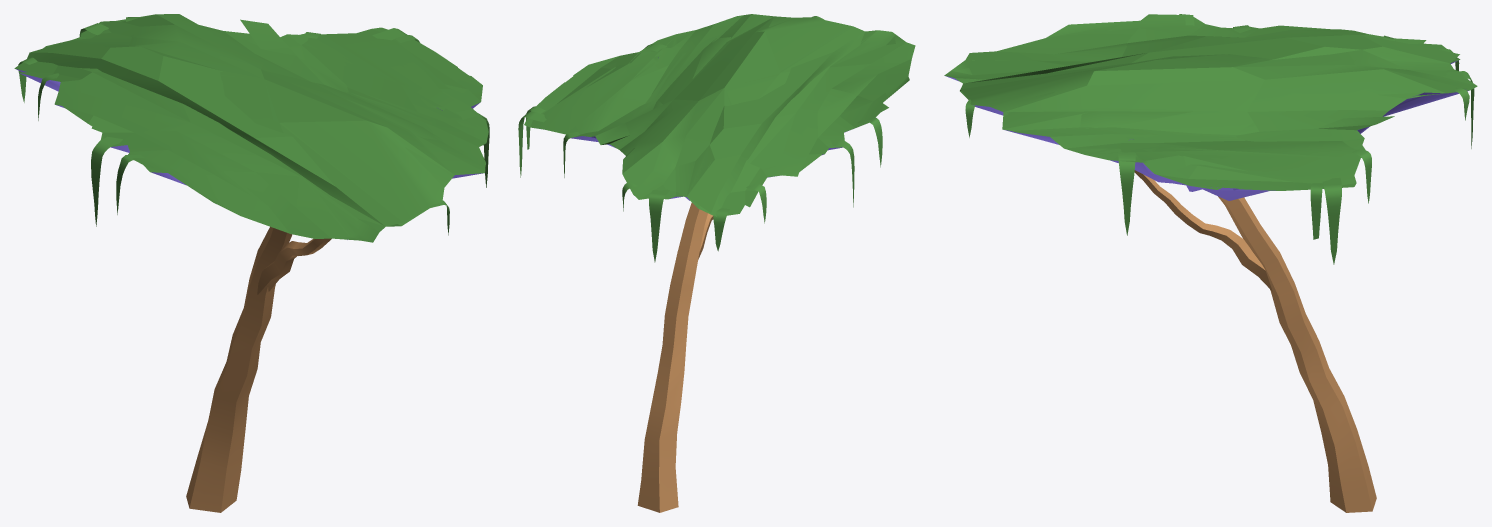
The model's file is tree_A_canopy_C_solo.fbx.
3 renders of one model, left to right at view 1: azimuth 30°, elevation 25°; view 2: azimuth 150°, elevation 25°; view 3: azimuth 270°, elevation 25°, orthographic. The views are drawn at different scales.
Visible parts, largest first — view 1: tree_A_canopy_C_holed, tree_A_canopy_C, tree_A_canopy_C_leveled, tree_A_canopy_C_trunk_A, tree_A_canopy_C_trunk_B, tree_A_canopy_C_liana_B; view 2: tree_A_canopy_C_holed, tree_A_canopy_C, tree_A_canopy_C_leveled, tree_A_canopy_C_trunk_A, tree_A_canopy_C_liana_H; view 3: tree_A_canopy_C_holed, tree_A_canopy_C, tree_A_canopy_C_leveled, tree_A_canopy_C_trunk_A, tree_A_canopy_C_trunk_B, tree_A_canopy_C_liana_A, tree_A_canopy_C_liana_E.
Part boxes in pixels (x1,y1,x2,y2): tree_A_canopy_C_holed: (14, 14, 488, 242); tree_A_canopy_C: (19, 14, 484, 240); tree_A_canopy_C_leveled: (17, 15, 485, 240); tree_A_canopy_C_trunk_A: (186, 226, 292, 512); tree_A_canopy_C_trunk_B: (257, 238, 331, 294); tree_A_canopy_C_liana_B: (91, 136, 122, 226); tree_A_canopy_C_holed: (524, 14, 915, 215); tree_A_canopy_C: (525, 15, 909, 215); tree_A_canopy_C_leveled: (524, 14, 895, 216); tree_A_canopy_C_trunk_A: (637, 202, 707, 512); tree_A_canopy_C_liana_H: (649, 189, 669, 262); tree_A_canopy_C_holed: (944, 14, 1477, 191); tree_A_canopy_C: (950, 15, 1468, 190); tree_A_canopy_C_leveled: (945, 14, 1467, 200); tree_A_canopy_C_trunk_A: (1218, 196, 1376, 512); tree_A_canopy_C_trunk_B: (1134, 170, 1272, 291); tree_A_canopy_C_liana_A: (1322, 177, 1341, 264); tree_A_canopy_C_liana_E: (1117, 151, 1135, 235).
Bounding box in the file's own units: 487 × 606 × 669.
